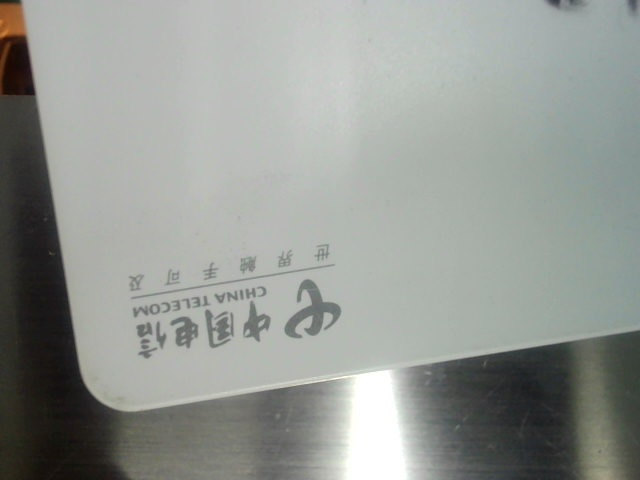AB_ChinaTelecom: (114, 239, 363, 362)
